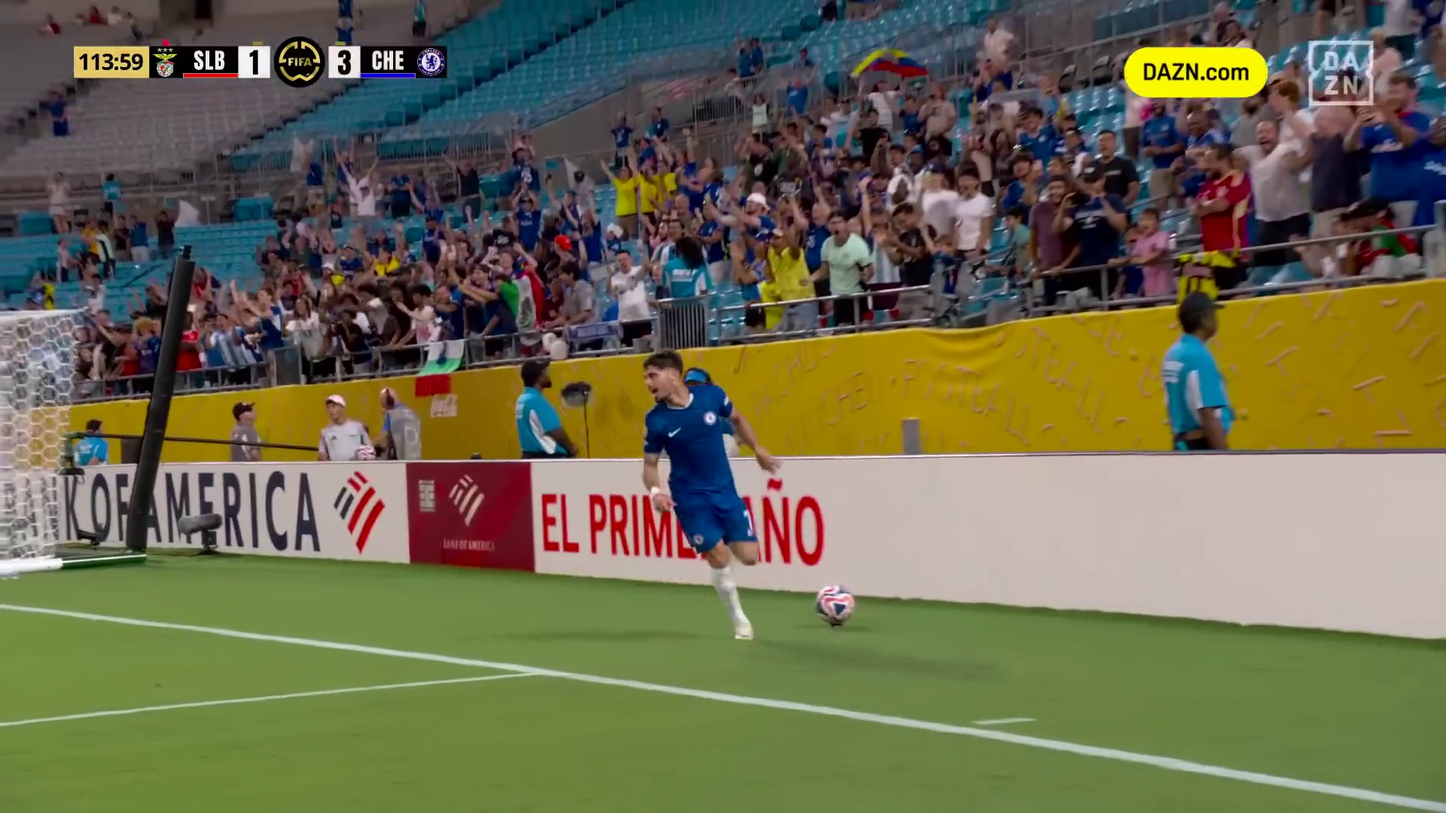ball: (808, 580, 860, 634)
player: (631, 345, 785, 650)
